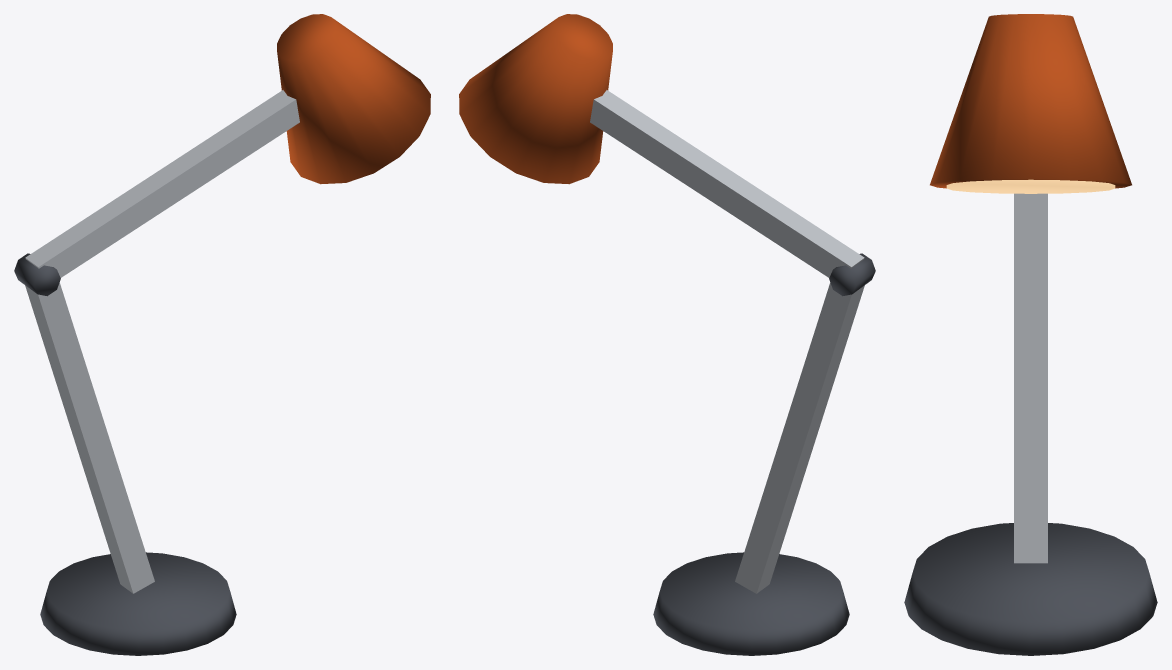
Rendered from Deco_DeskLamp.gltf.
3 views of the same model, side by side, from view 1: azimuth 30°, elevation 25°; view 2: azimuth 150°, elevation 25°; view 3: azimuth 270°, elevation 25° (orthographic). The views are drawn at different scales.
Parts seen in each view (by area): view 1: Deco_DeskLamp; view 2: Deco_DeskLamp; view 3: Deco_DeskLamp.
Boxes of the visible parts, x1=… form: Deco_DeskLamp: x1=14, y1=14, x2=430, y2=655; Deco_DeskLamp: x1=459, y1=14, x2=875, y2=655; Deco_DeskLamp: x1=904, y1=14, x2=1157, y2=655.
Size of the model in its own units: 0.3496 by 0.4639 by 0.15.
